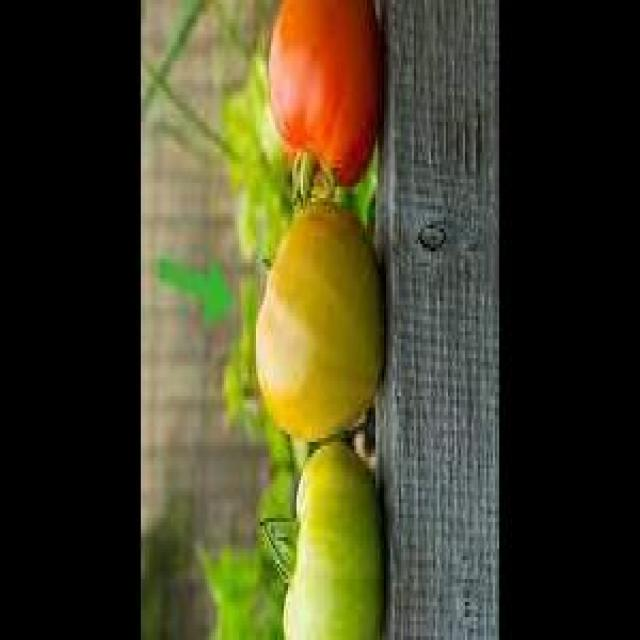Tomato: (248, 192, 388, 449), (267, 0, 386, 191), (281, 453, 393, 640)
